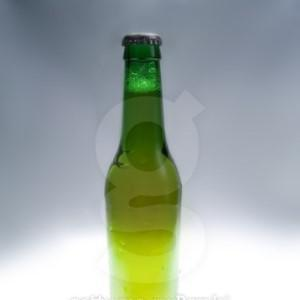beer: (101, 32, 187, 300)
